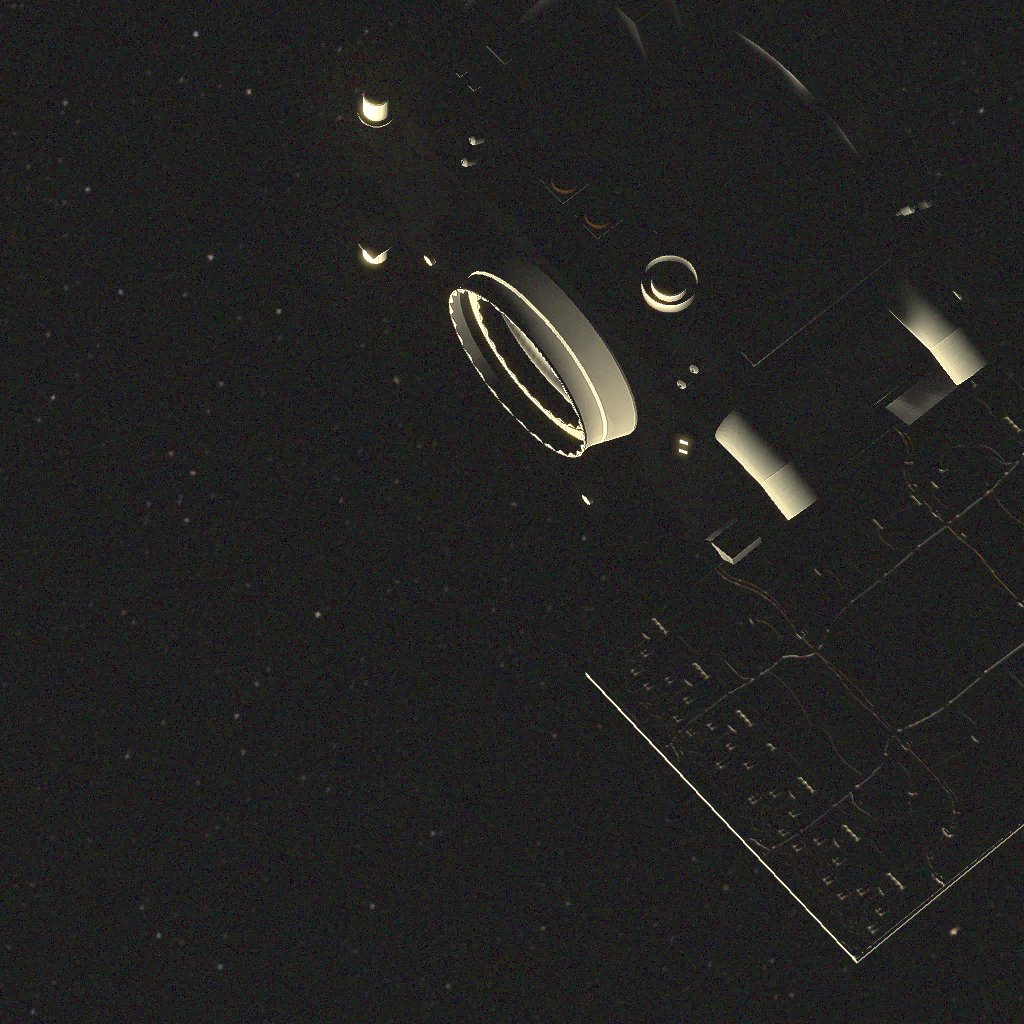proba_3_csc: (350, 0, 1024, 963)
